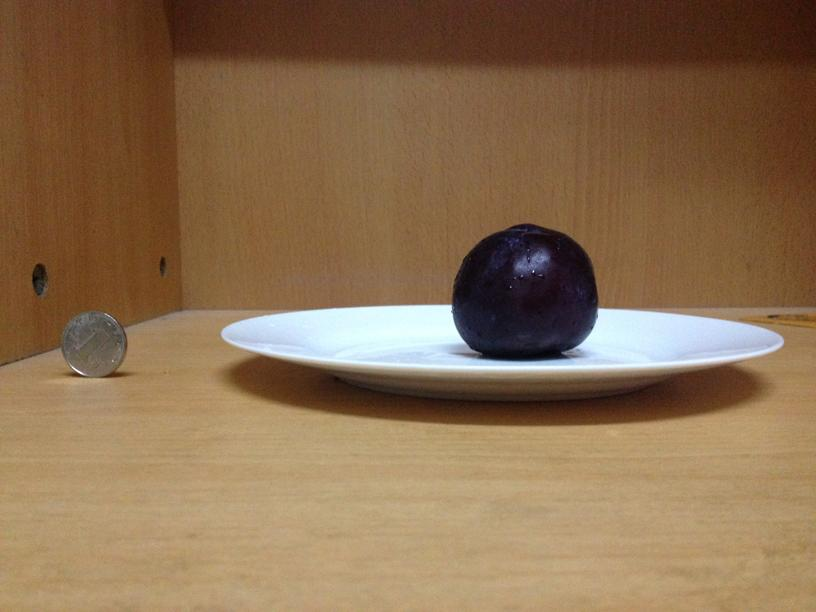coin: (51, 308, 139, 379)
plum: (450, 220, 603, 359)
